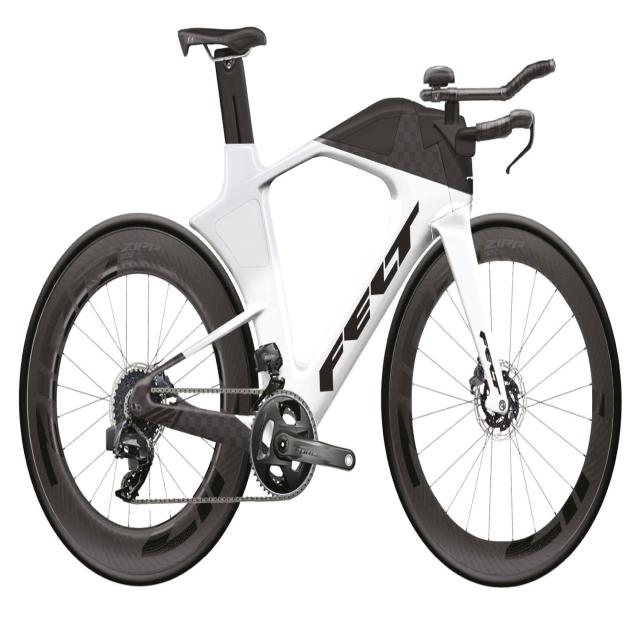TT-bike: (18, 24, 622, 588)
